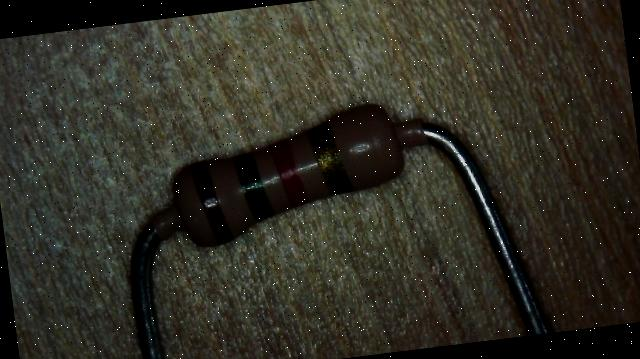brown: (190, 160, 230, 246)
gold: (308, 120, 350, 196)
green: (233, 150, 274, 223)
red: (270, 137, 306, 209)
resistor: (150, 73, 432, 275)
